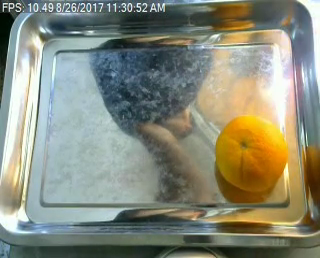Orange: (215, 113, 287, 190)
